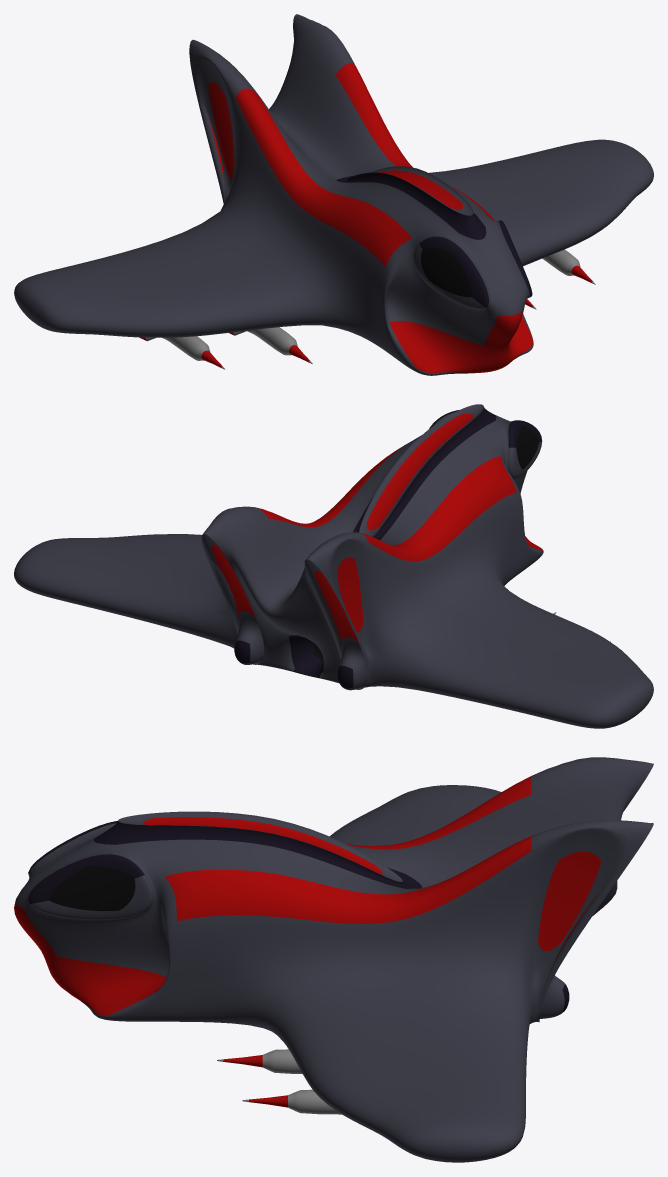
File: Hero_prefab.fbx
The picture shows the model from 3 angles, top to bottom: view 1: azimuth 30°, elevation 25°; view 2: azimuth 150°, elevation 25°; view 3: azimuth 270°, elevation 25°; orthographic projection. The views are drawn at different scales.
Visible parts, largest first — view 1: Box001, Cylinder003, Cylinder004, Cylinder002; view 2: Box001; view 3: Box001, Cylinder002, Cylinder001.
Boxes of the visible parts, left/top/right/bottom form: Box001: left=14, top=14, right=653, bottom=375; Cylinder003: left=229, top=327, right=312, bottom=363; Cylinder004: left=139, top=336, right=225, bottom=369; Cylinder002: left=542, top=249, right=595, bottom=284; Box001: left=14, top=404, right=653, bottom=728; Box001: left=14, top=757, right=653, bottom=1162; Cylinder002: left=242, top=1089, right=341, bottom=1114; Cylinder001: left=217, top=1049, right=302, bottom=1073.
Size of the model in its own units: 134 by 40.28 by 102.
